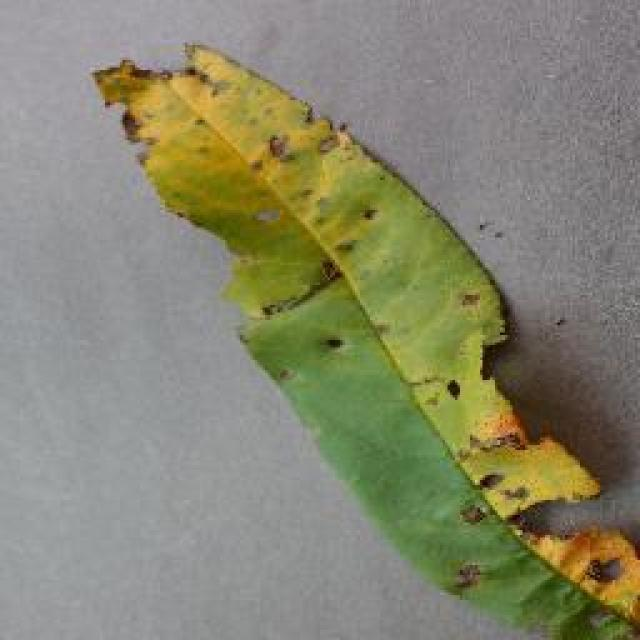Peach_Bacterial_Spot: (153, 71, 605, 566)
